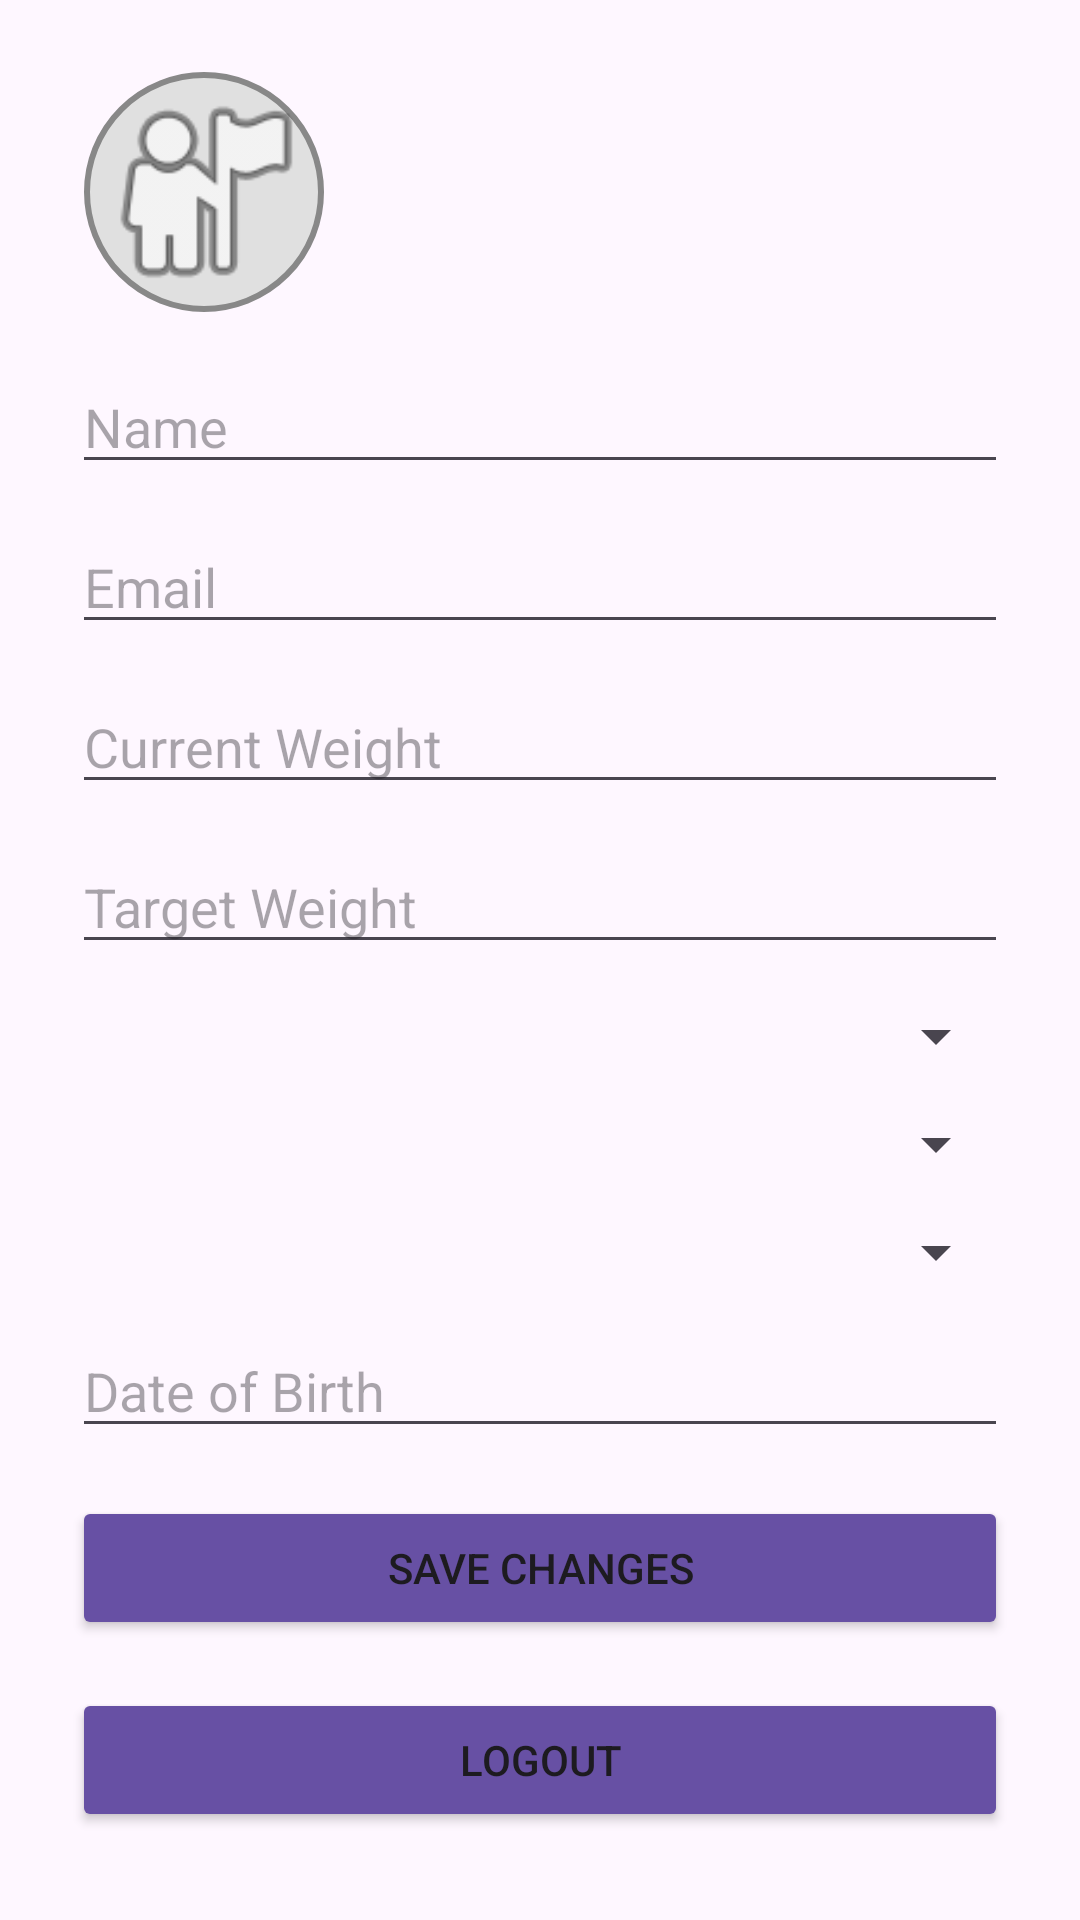

Screen size 1080×1920. Icon name, then its center in pixels as [x,y]:
Profile Image: [204,192]
